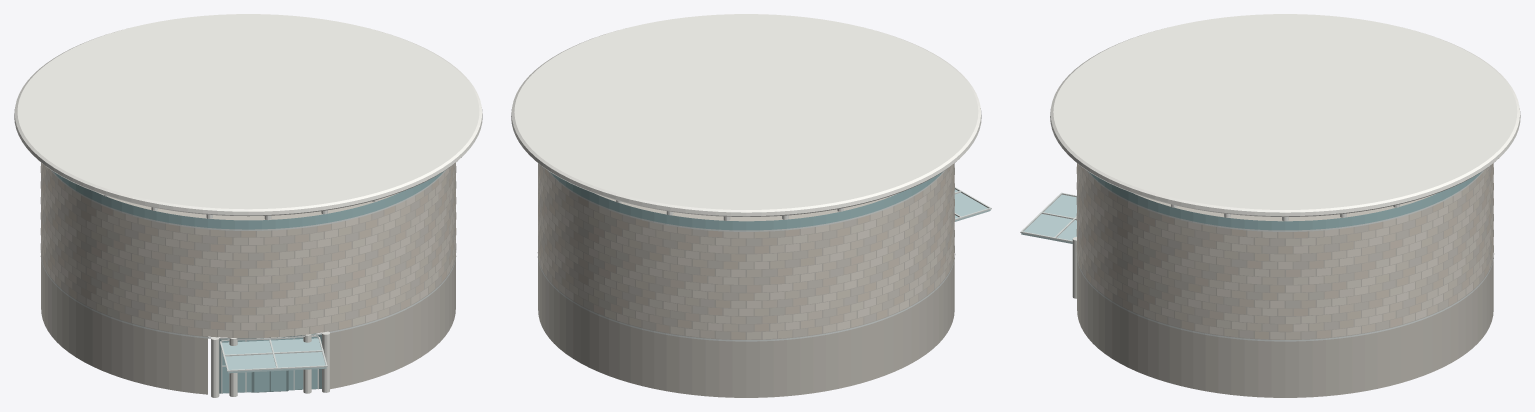
The model's file is museum.glb.
The picture shows the model from 3 angles, left to right: view 1: azimuth 30°, elevation 25°; view 2: azimuth 150°, elevation 25°; view 3: azimuth 270°, elevation 25°; orthographic projection.
Visible parts, largest first — view 1: Mungyeong Coal Museum; view 2: Mungyeong Coal Museum; view 3: Mungyeong Coal Museum.
Part boxes in pixels (x1=…): Mungyeong Coal Museum: x1=14, y1=14, x2=482, y2=397; Mungyeong Coal Museum: x1=511, y1=14, x2=991, y2=397; Mungyeong Coal Museum: x1=1020, y1=14, x2=1520, y2=397.
Size of the model in its own units: 45.35 by 21.05 by 48.21.
